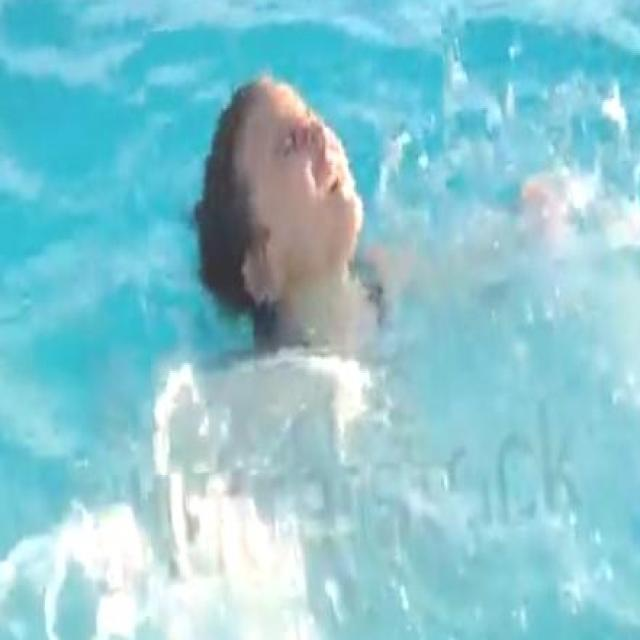Drowning: (192, 72, 395, 358)
